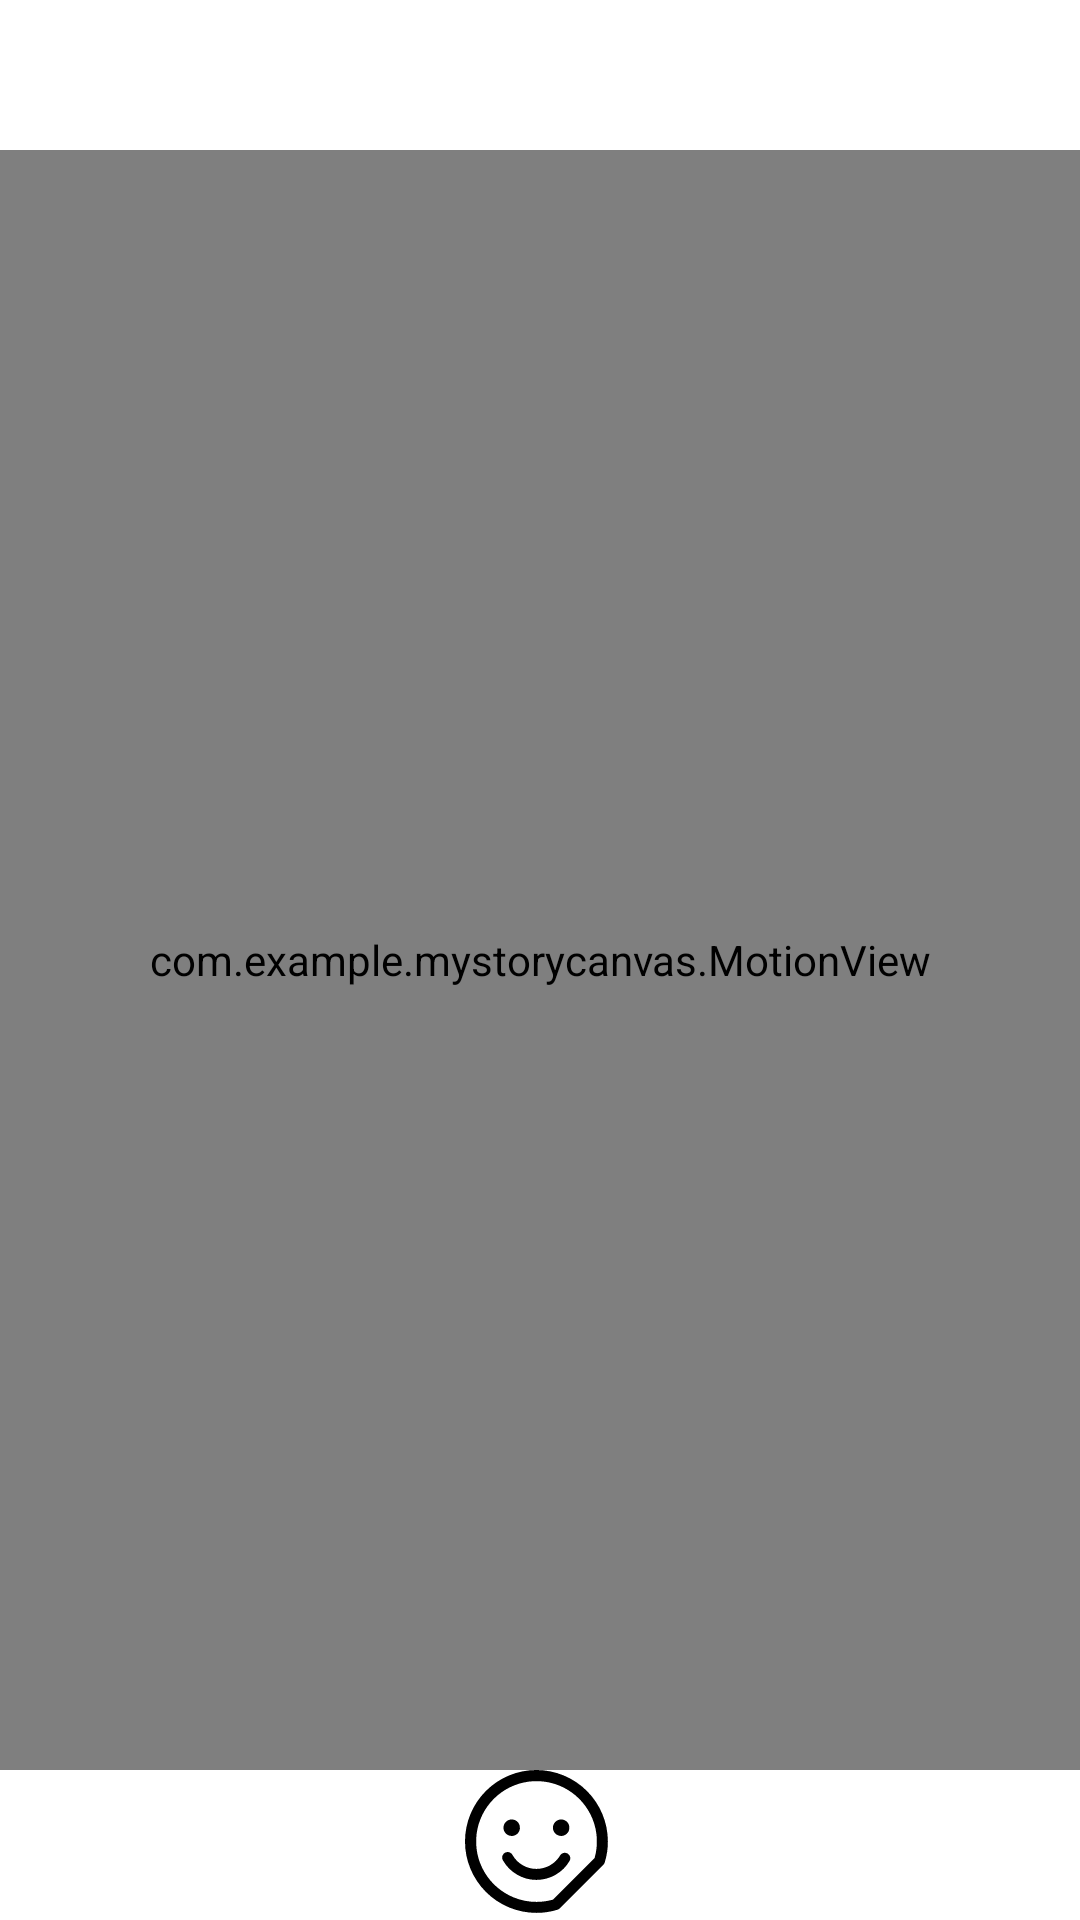

Icons on this 1080*1920 Android screen, each with the point to tap as (x,y):
stickers: (536,1841)
